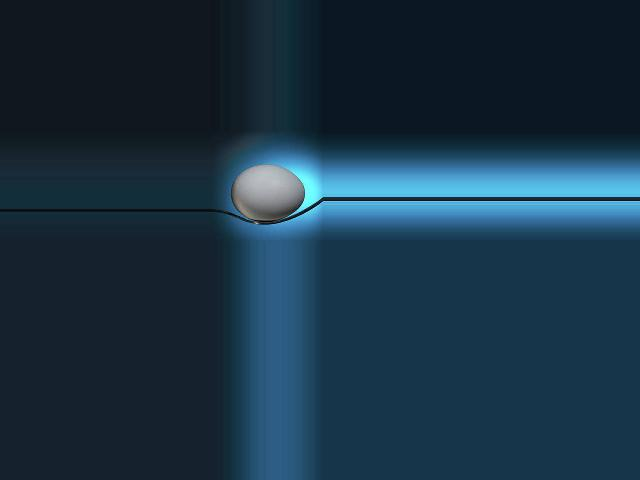egg: (230, 165, 304, 221)
